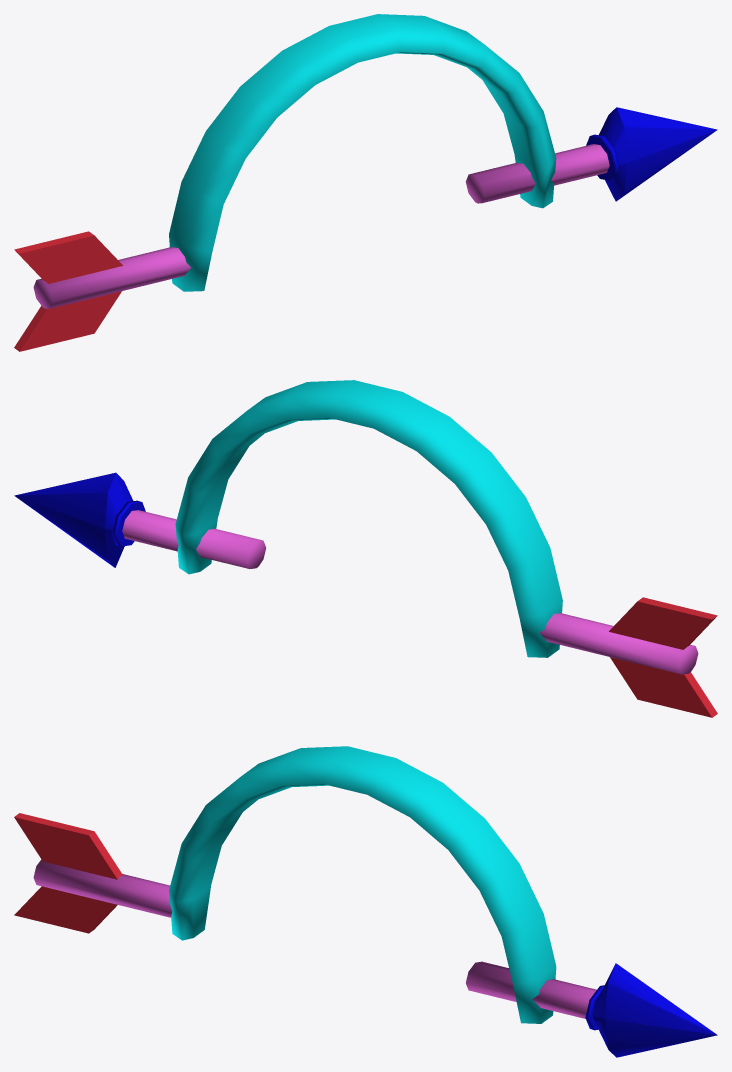
The model's file is Arrow.fbx.
3 views of the same model, one above another, from view 1: azimuth 30°, elevation 25°; view 2: azimuth 150°, elevation 25°; view 3: azimuth 330°, elevation 25° (orthographic).
Parts seen in each view (by area): view 1: polySurface1148; view 2: polySurface1148; view 3: polySurface1148.
Part boxes in pixels (bbox=[...]): polySurface1148: bbox=[14, 14, 717, 351]; polySurface1148: bbox=[14, 380, 717, 717]; polySurface1148: bbox=[14, 746, 717, 1057].
Size of the model in its own units: 160 by 51.95 by 13.86.
